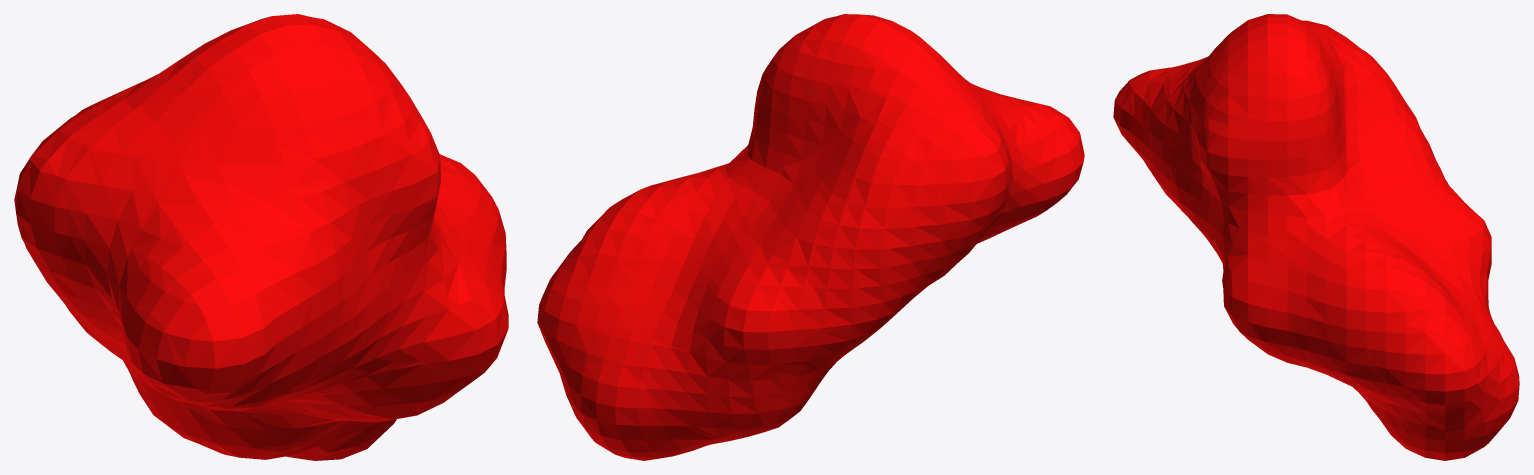
Rendered from rpmC_coarse.dae.
3 renders of one model, left to right at view 1: azimuth 30°, elevation 25°; view 2: azimuth 150°, elevation 25°; view 3: azimuth 270°, elevation 25°, orthographic. The views are drawn at different scales.
Parts seen in each view (by area): view 1: rpmC; view 2: rpmC; view 3: rpmC.
Boxes of the visible parts, x1=… form: rpmC: x1=14, y1=14, x2=508, y2=460; rpmC: x1=537, y1=14, x2=1084, y2=460; rpmC: x1=1113, y1=14, x2=1519, y2=460.
Size of the model in its own units: 37.49 by 37.14 by 36.39.
